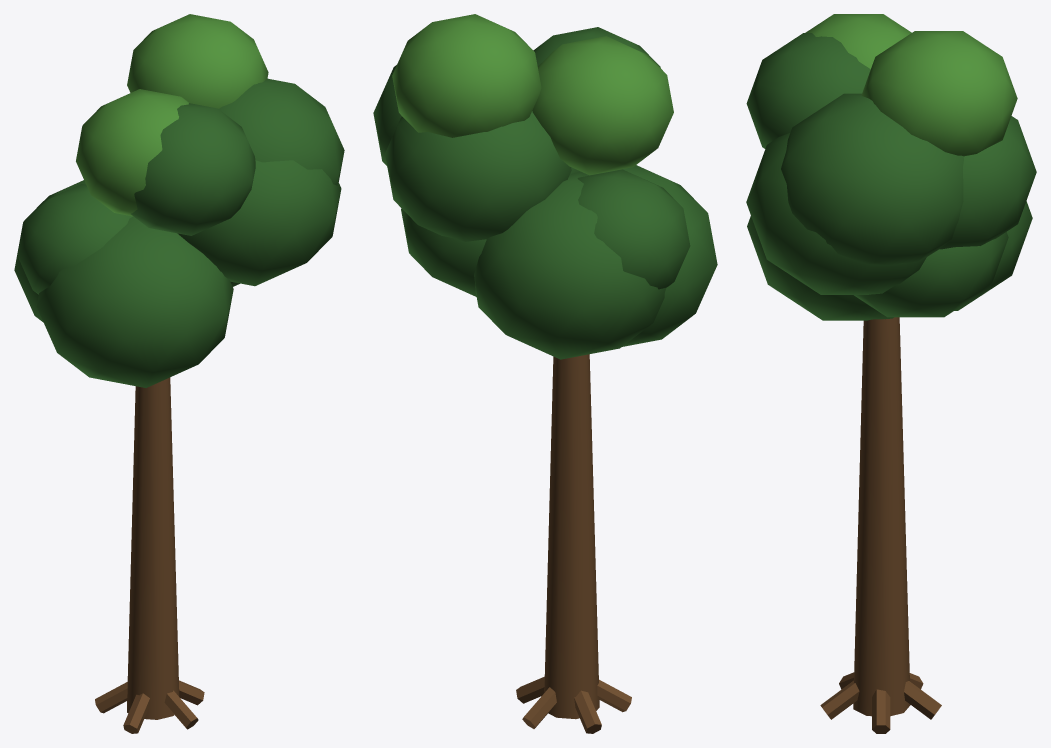
The model's file is arbre_foret_3.glb.
The picture shows the model from 3 angles, left to right: view 1: azimuth 30°, elevation 25°; view 2: azimuth 150°, elevation 25°; view 3: azimuth 270°, elevation 25°; orthographic projection. The views are drawn at different scales.
Parts seen in each view (by area): view 1: feuillage_feuille_sombre.012, feuillage_feuille.012, tronc.012, racines_ecorce.002; view 2: feuillage_feuille_sombre.012, feuillage_feuille.012, tronc.012, racines_ecorce.002; view 3: feuillage_feuille_sombre.012, tronc.012, feuillage_feuille.012, racines_ecorce.002.
Part boxes in pixels (x1,y1,x2,y2): feuillage_feuille_sombre.012: [14, 78, 344, 387]; feuillage_feuille.012: [76, 14, 268, 216]; tronc.012: [127, 377, 179, 719]; racines_ecorce.002: [95, 680, 204, 733]; feuillage_feuille_sombre.012: [373, 27, 717, 359]; feuillage_feuille.012: [392, 14, 673, 175]; tronc.012: [544, 354, 599, 719]; racines_ecorce.002: [516, 676, 631, 733]; feuillage_feuille_sombre.012: [746, 33, 1036, 320]; tronc.012: [853, 317, 910, 716]; feuillage_feuille.012: [805, 14, 1017, 156]; racines_ecorce.002: [820, 672, 941, 733].
Bounding box in the file's own units: 2.32 × 5.07 × 1.87.
